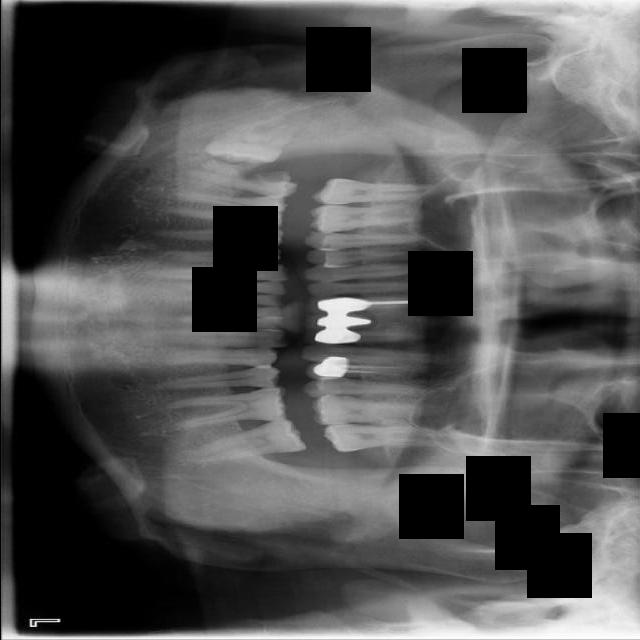52: (305, 295, 371, 345), (303, 354, 351, 382), (236, 163, 289, 184), (322, 243, 333, 249)
73: (338, 357, 426, 382), (356, 295, 453, 312), (16, 622, 20, 628)
BioHorizons Implant: (321, 424, 447, 453)
Blue Sky Bio Implant: (181, 416, 306, 464)
Caries: (309, 170, 448, 207)
Implant: (185, 156, 300, 202)
Keystone Dental Implant: (199, 92, 316, 191)
